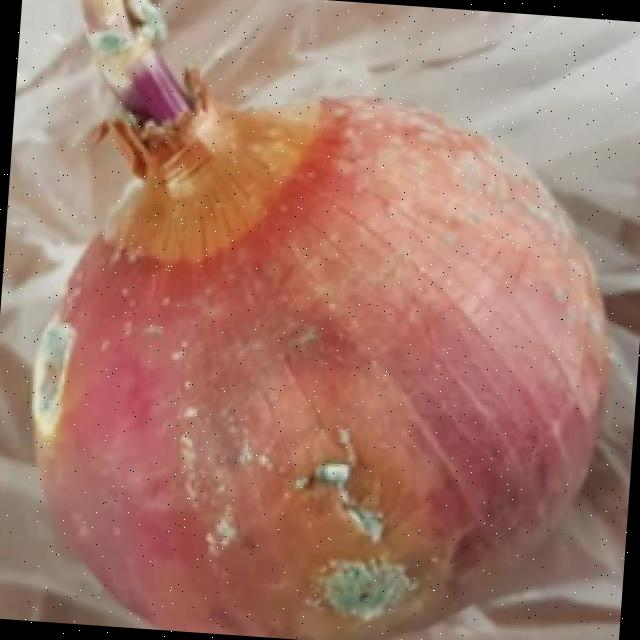Onion: (33, 0, 609, 640)
